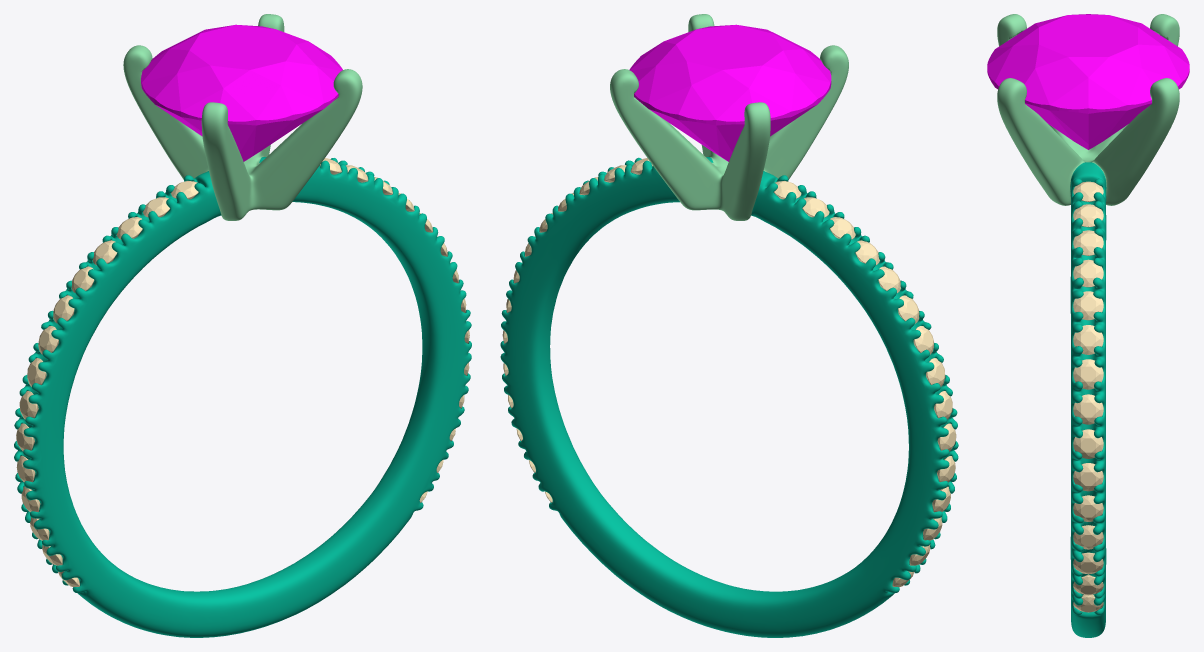
The model's file is BE164_RD_200ct_RENDER.glb.
3 renders of one model, left to right at view 1: azimuth 30°, elevation 25°; view 2: azimuth 150°, elevation 25°; view 3: azimuth 270°, elevation 25°, orthographic.
Visible parts, largest first — view 1: Metal 01, CS_Diamond_Round, Metal 02; view 2: Metal 01, CS_Diamond_Round, Metal 02; view 3: CS_Diamond_Round, Metal 02, Metal 01, Diamond_Round_Gem_SH.006, Diamond_Round_Gem_SH.007, Diamond_Round_Gem_SH.005, Diamond_Round_Gem_SH.008, Diamond_Round_Gem_SH.004, Diamond_Round_Gem_SH.009, Diamond_Round_Gem_SH.003, Diamond_Round_Gem_SH.010, Diamond_Round_Gem_SH.002 (+6 smaller).
Part boxes in pixels (box(x1,y1,x2,y2)): Metal 01: box(14, 157, 471, 637); CS_Diamond_Round: box(141, 24, 342, 161); Metal 02: box(123, 14, 362, 220); Metal 01: box(500, 157, 958, 637); CS_Diamond_Round: box(629, 24, 831, 161); Metal 02: box(610, 14, 848, 220); CS_Diamond_Round: box(987, 14, 1189, 149); Metal 02: box(997, 14, 1179, 205); Metal 01: box(1070, 162, 1106, 637); Diamond_Round_Gem_SH.006: box(1073, 359, 1103, 389); Diamond_Round_Gem_SH.007: box(1073, 394, 1103, 424); Diamond_Round_Gem_SH.005: box(1073, 325, 1103, 354); Diamond_Round_Gem_SH.008: box(1073, 429, 1103, 458); Diamond_Round_Gem_SH.004: box(1073, 291, 1103, 320); Diamond_Round_Gem_SH.009: box(1073, 463, 1103, 491); Diamond_Round_Gem_SH.003: box(1073, 259, 1103, 287); Diamond_Round_Gem_SH.010: box(1073, 495, 1103, 521); Diamond_Round_Gem_SH.002: box(1073, 230, 1103, 255).
Size of the model in its own units: 20.27 by 25.2 by 8.
